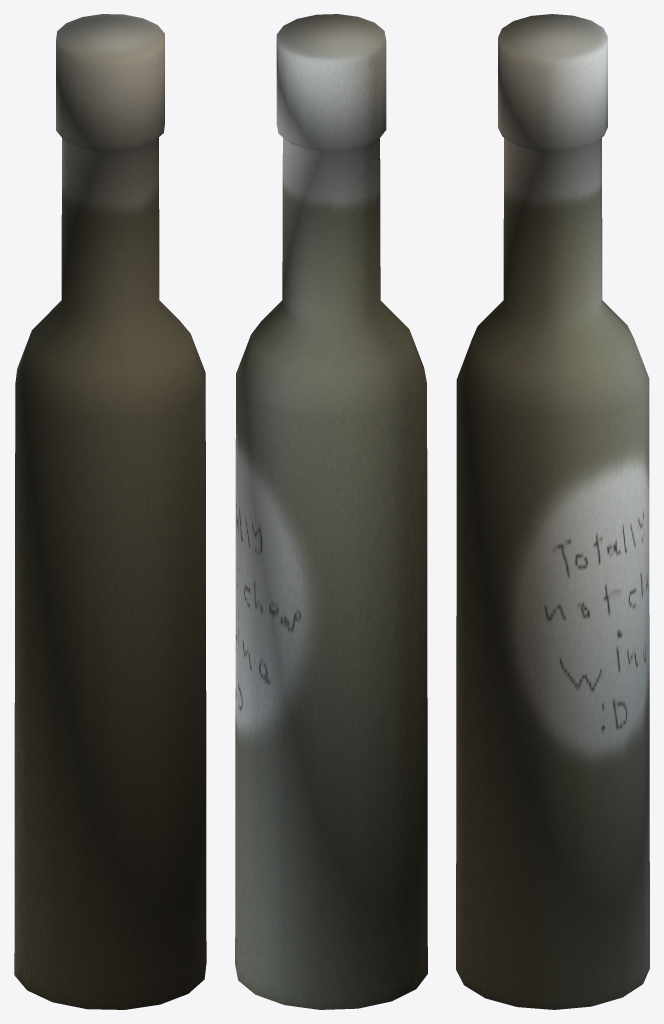
File: wine0.fbx
3 views of the same model, side by side, from view 1: azimuth 30°, elevation 25°; view 2: azimuth 150°, elevation 25°; view 3: azimuth 270°, elevation 25° (orthographic).
Parts seen in each view (by area): view 1: wine0low; view 2: wine0low; view 3: wine0low.
Boxes of the visible parts, box(x1,y1,x2,y2) form: wine0low: box(14, 14, 206, 1009); wine0low: box(235, 14, 427, 1009); wine0low: box(456, 14, 649, 1009).
Size of the model in its own units: 0.0525 by 0.0525 by 0.2785.
1 material, 1 textured.
